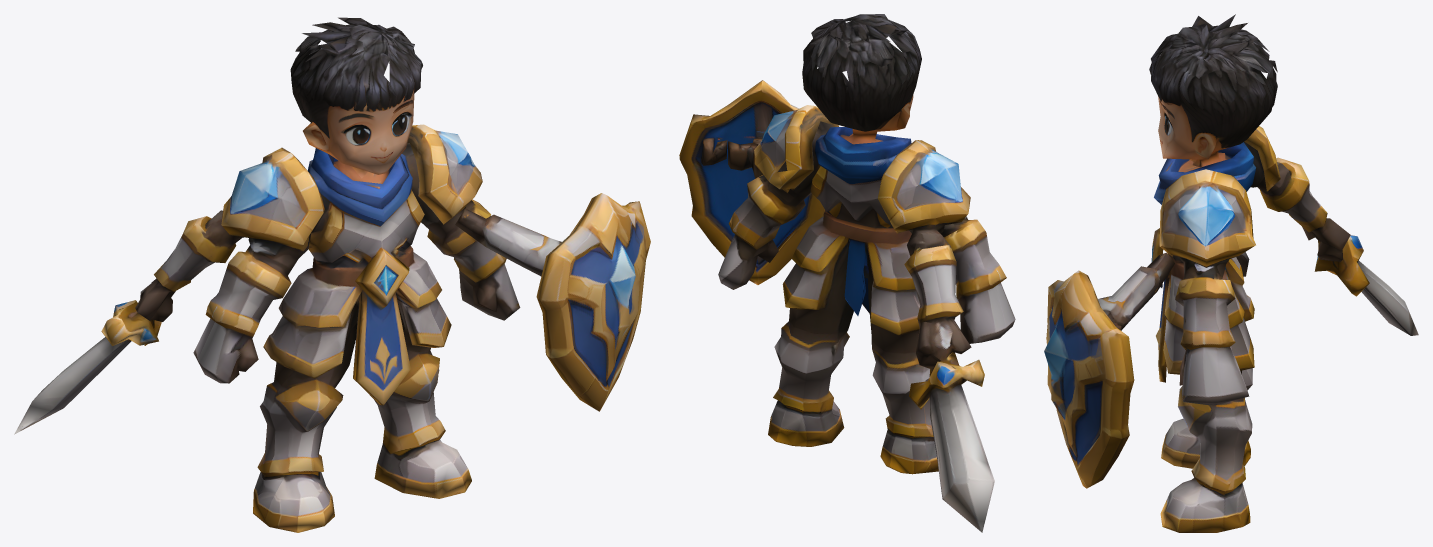
File: duy_anh_front.glb
The picture shows the model from 3 angles, left to right: view 1: azimuth 30°, elevation 25°; view 2: azimuth 150°, elevation 25°; view 3: azimuth 270°, elevation 25°; orthographic projection. The views are drawn at different scales.
Parts seen in each view (by area): view 1: tripo_node_78ff748b-7d78-421d-8967-1802aa244f0b; view 2: tripo_node_78ff748b-7d78-421d-8967-1802aa244f0b; view 3: tripo_node_78ff748b-7d78-421d-8967-1802aa244f0b.
Boxes of the visible parts, x1=… form: tripo_node_78ff748b-7d78-421d-8967-1802aa244f0b: x1=14, y1=17, x2=650, y2=532; tripo_node_78ff748b-7d78-421d-8967-1802aa244f0b: x1=679, y1=14, x2=1015, y2=532; tripo_node_78ff748b-7d78-421d-8967-1802aa244f0b: x1=1044, y1=14, x2=1418, y2=532.
Bounding box in the file's own units: 1 × 0.9358 × 0.6893.
Materials: 1 (1 with a texture image).
